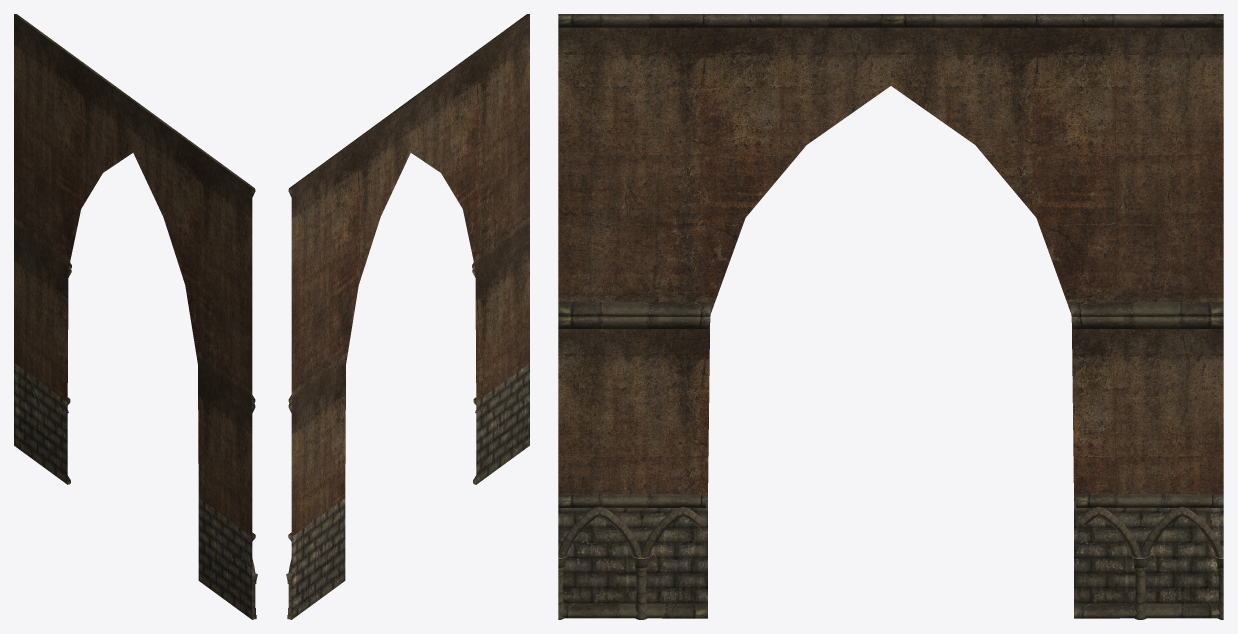
File: NC_doorway_large.DAE
3 renders of one model, left to right at view 1: azimuth 30°, elevation 25°; view 2: azimuth 150°, elevation 25°; view 3: azimuth 270°, elevation 25°, orthographic. The views are drawn at different scales.
Visible parts, largest first — view 1: NC_doorway_large, NC_wall_doorway_large_trim, NC_doorway_large_details; view 2: NC_doorway_large, NC_wall_doorway_large_trim, NC_doorway_large_details; view 3: NC_doorway_large, NC_doorway_large_details, NC_wall_doorway_large_trim.
Part boxes in pixels (left/top/right/bottom): NC_doorway_large: left=14, top=14, right=252, bottom=536; NC_wall_doorway_large_trim: left=14, top=363, right=252, bottom=619; NC_doorway_large_details: left=14, top=14, right=257, bottom=619; NC_doorway_large: left=291, top=14, right=529, bottom=536; NC_wall_doorway_large_trim: left=291, top=363, right=529, bottom=619; NC_doorway_large_details: left=286, top=14, right=529, bottom=619; NC_doorway_large: left=558, top=27, right=1223, bottom=500; NC_doorway_large_details: left=558, top=14, right=1223, bottom=619; NC_wall_doorway_large_trim: left=558, top=501, right=1223, bottom=603.
Bounding box in the file's own units: 0.1177 × 8 × 8.
